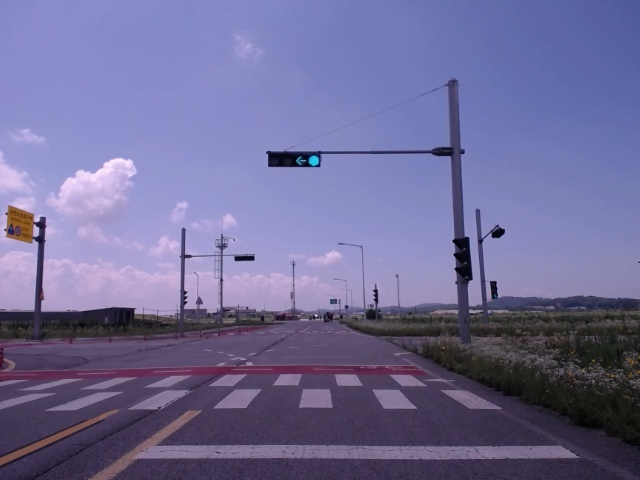all_green_4: (268, 151, 320, 169)
